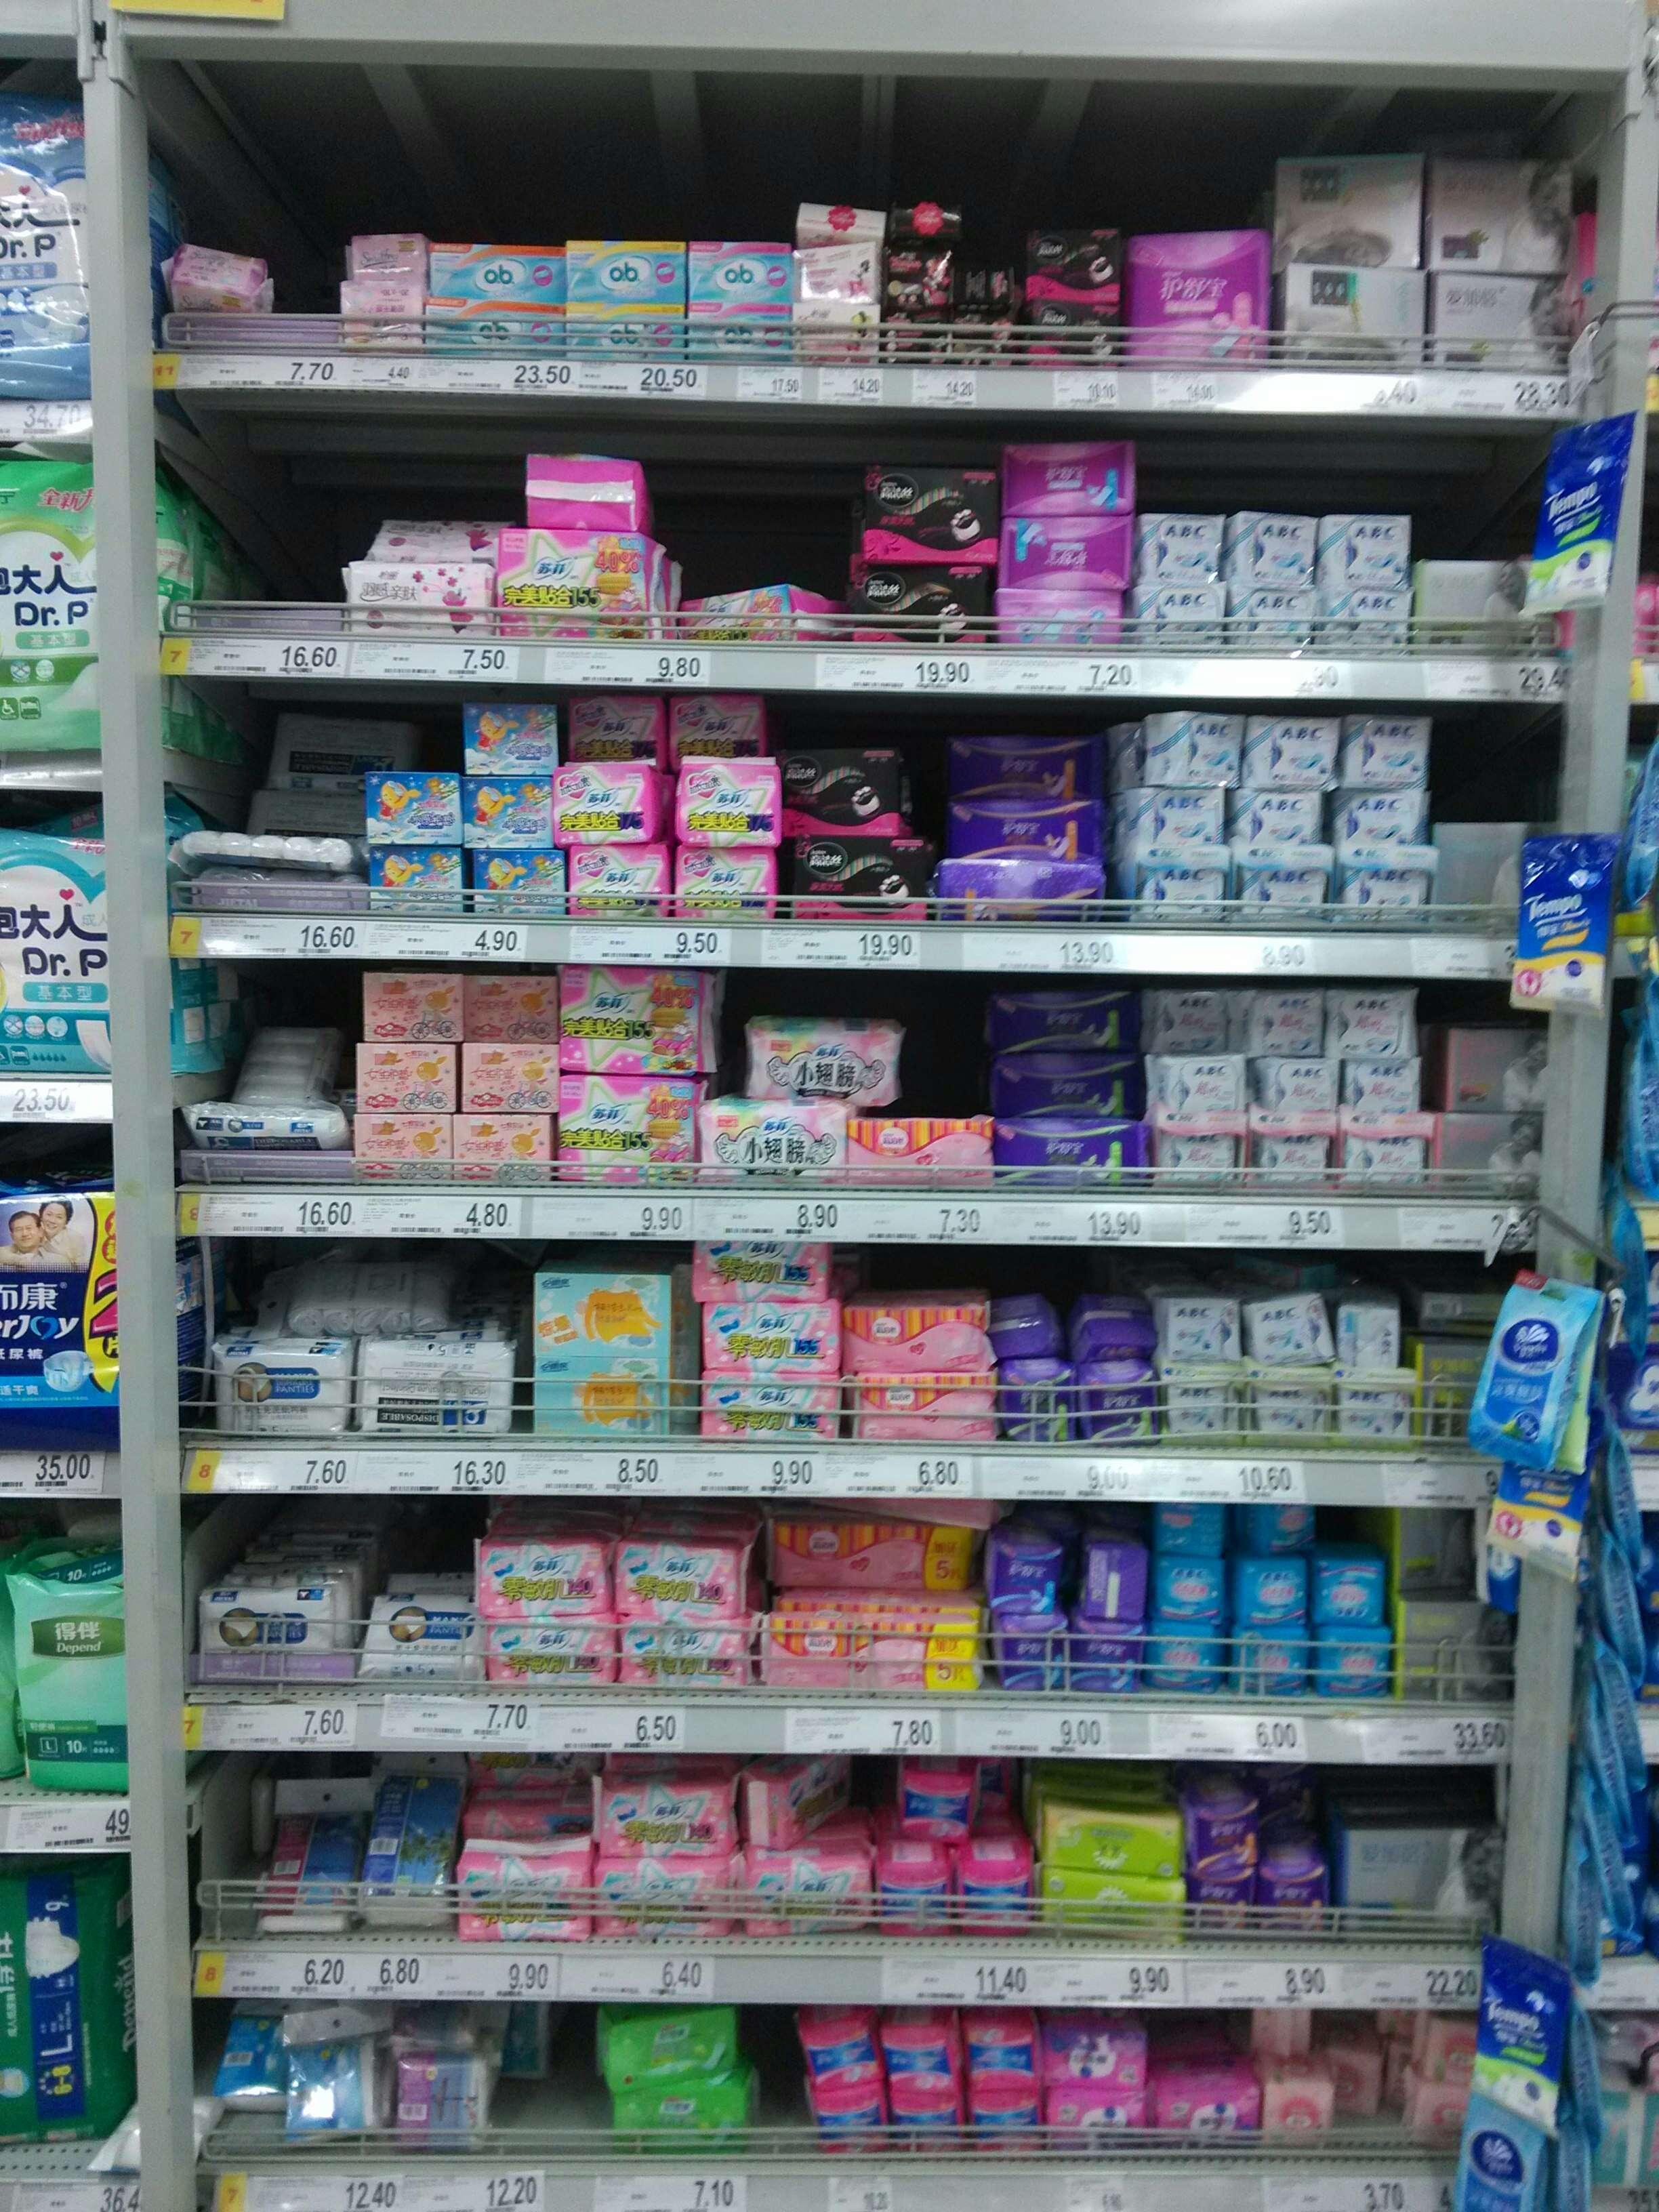misalignment: (270, 1249, 464, 1331), (192, 801, 354, 876), (159, 226, 281, 320), (687, 575, 845, 646), (523, 449, 652, 535), (188, 1087, 354, 1153), (744, 1761, 854, 1841), (1077, 1515, 1154, 1623), (218, 2006, 286, 2113), (1241, 1994, 1326, 2059), (798, 178, 884, 240), (1248, 1505, 1324, 1559), (896, 188, 964, 240)
